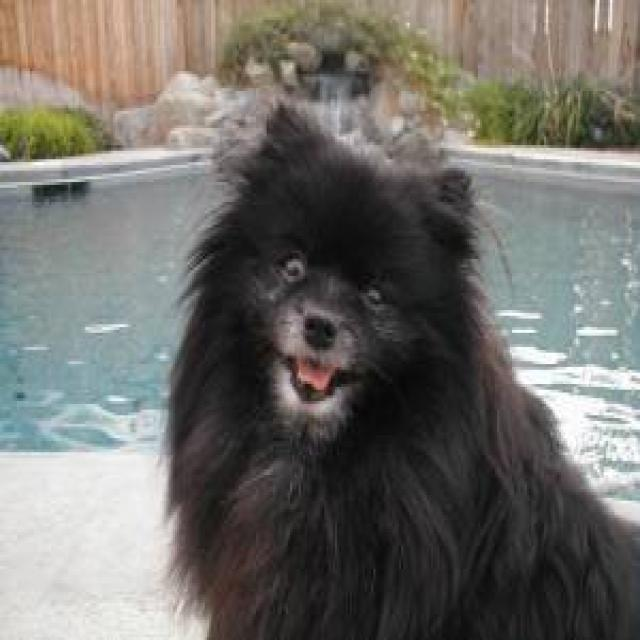dog-pomeranian: (160, 102, 636, 634)
